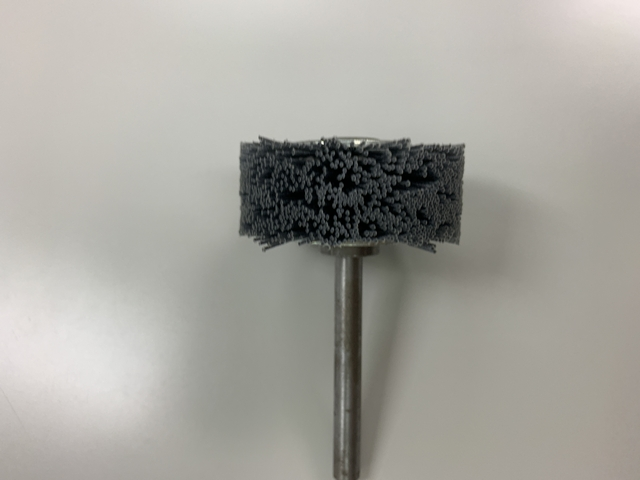Wheel Brush: (233, 128, 480, 480), (227, 118, 474, 372)
